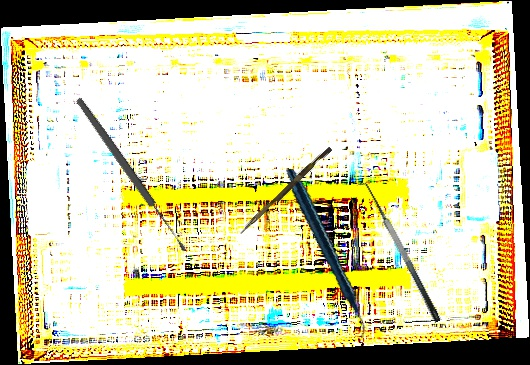Handpiece: (257, 168, 393, 338)
Pusher: (238, 143, 333, 239)
Spatula Surgical: (353, 177, 443, 329)
Surgical Spoon: (73, 95, 190, 255)
